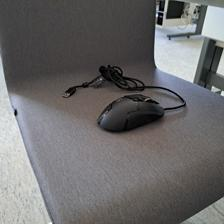mouse: (96, 93, 163, 135)
